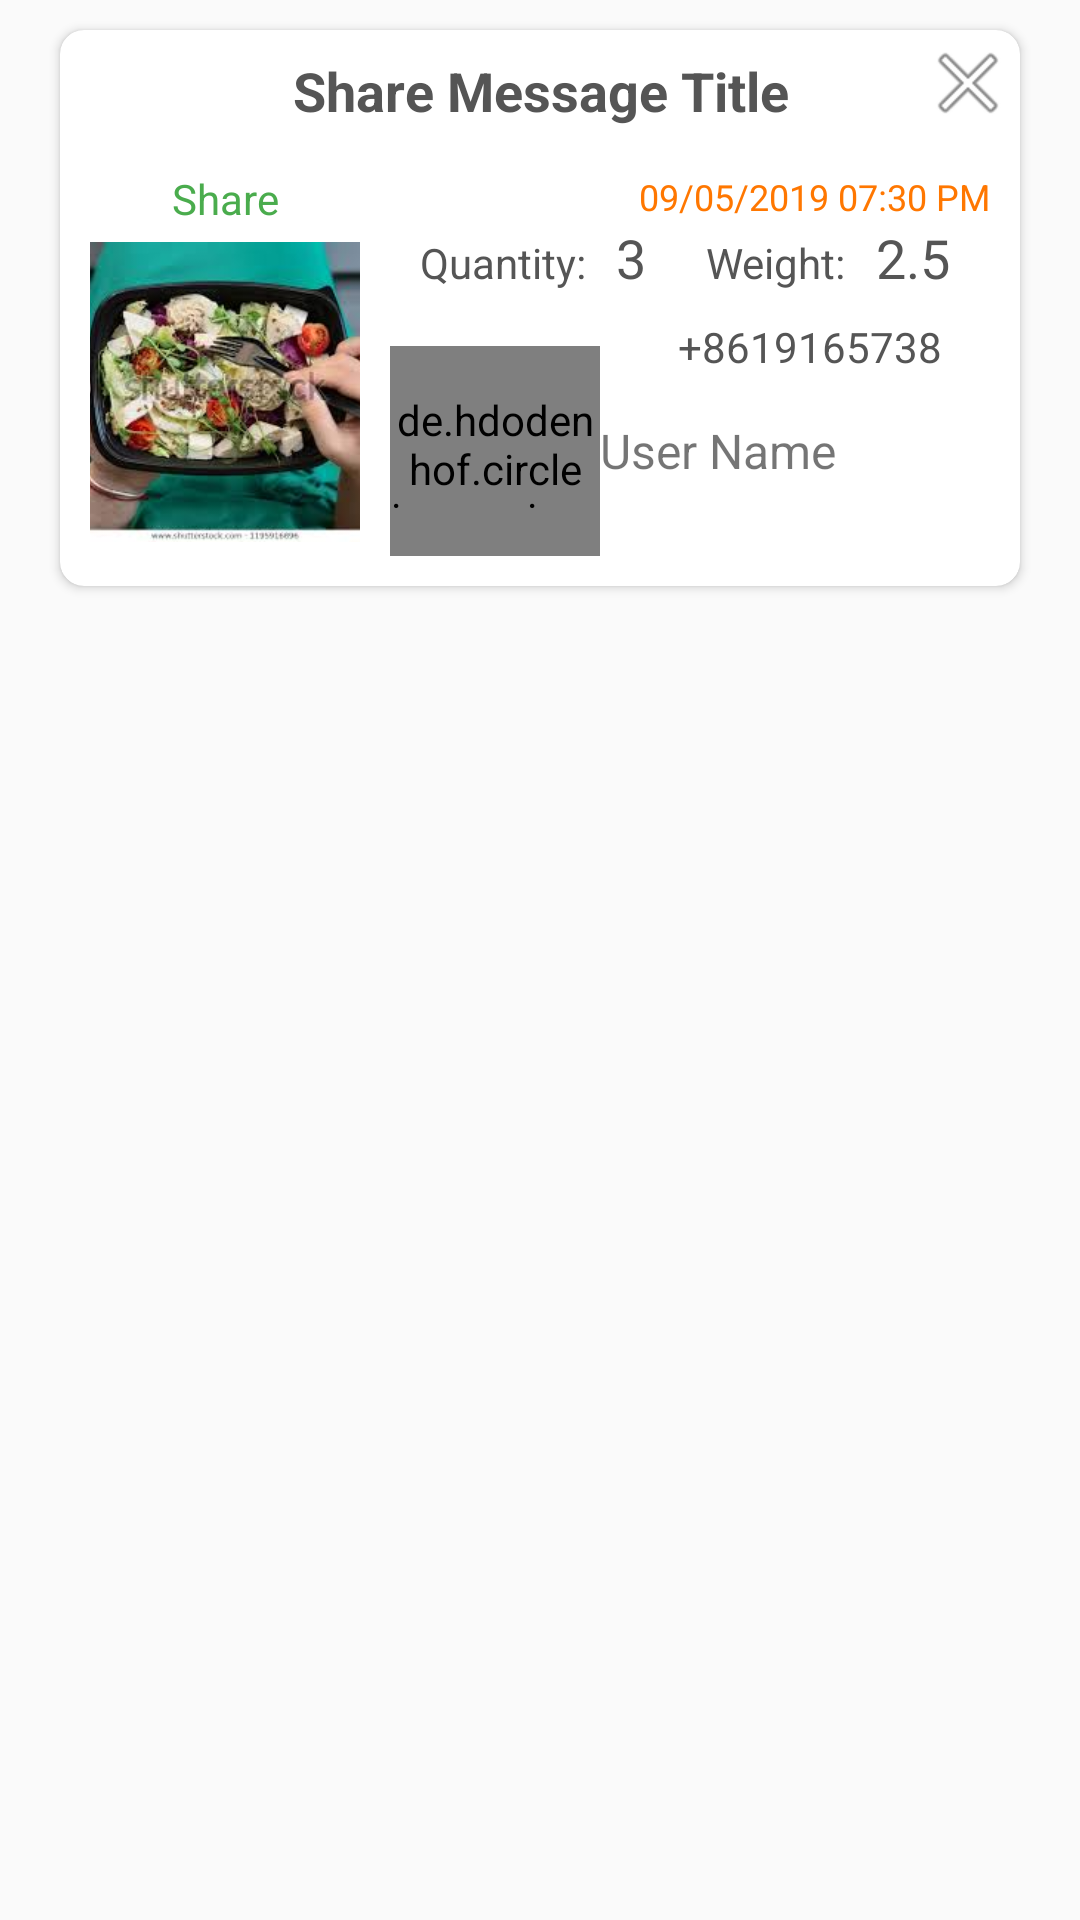

Icons on this 1080 x 1920 Android screen, each with the point to tap as [x,y]:
close clear cancel: [968,83]
vegteble: [225,391]
